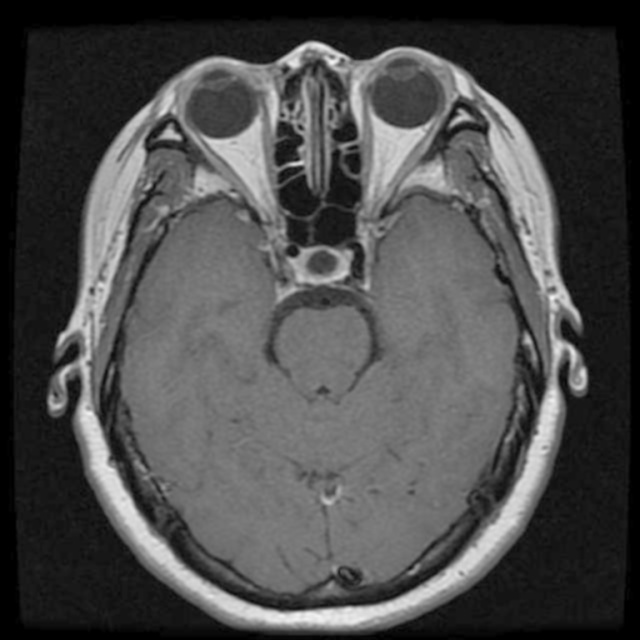no tumor: (294, 242, 350, 288)
